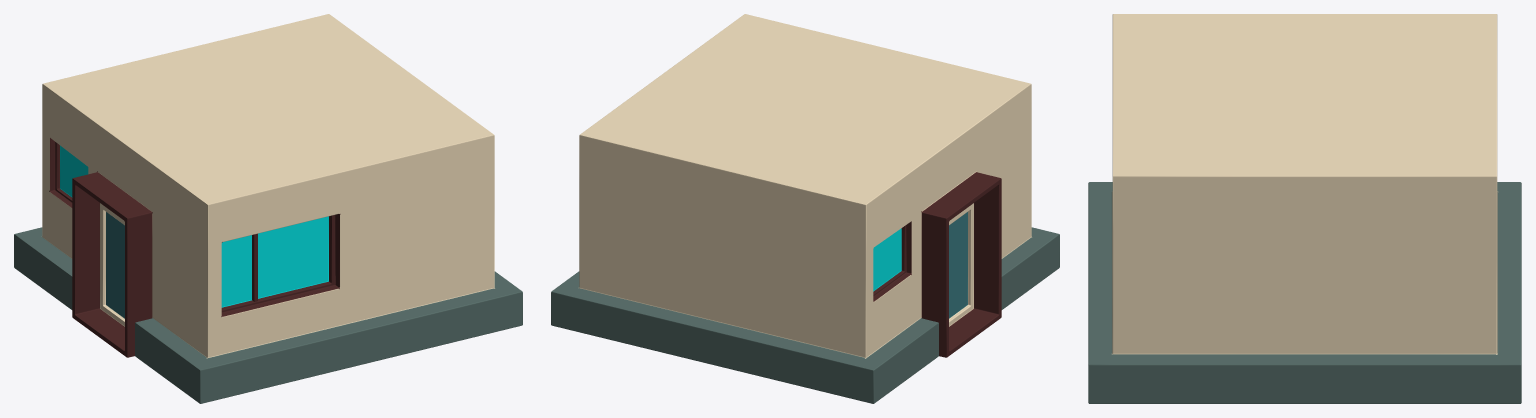
Rendered from Main House1.fbx.
3 renders of one model, left to right at view 1: azimuth 30°, elevation 25°; view 2: azimuth 150°, elevation 25°; view 3: azimuth 270°, elevation 25°, orthographic. The views are drawn at different scales.
Parts seen in each view (by area): view 1: Plane.004; view 2: Plane.004; view 3: Plane.004.
Part boxes in pixels (box(x1,y1,x2,y2)): Plane.004: box(14, 14, 522, 403); Plane.004: box(551, 14, 1059, 403); Plane.004: box(1088, 14, 1521, 403).
Size of the model in its own units: 368 by 200 by 360.
